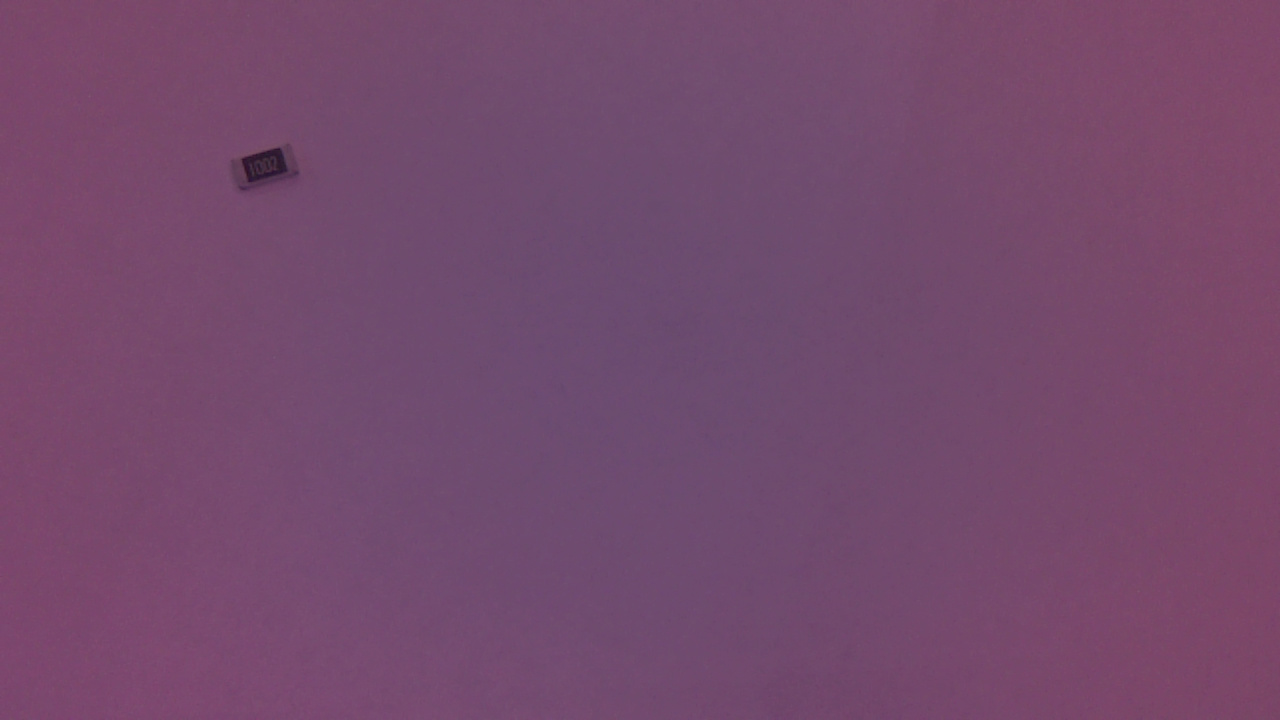Resistor: (229, 138, 310, 210)
